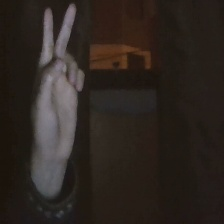K: (21, 1, 90, 168)
